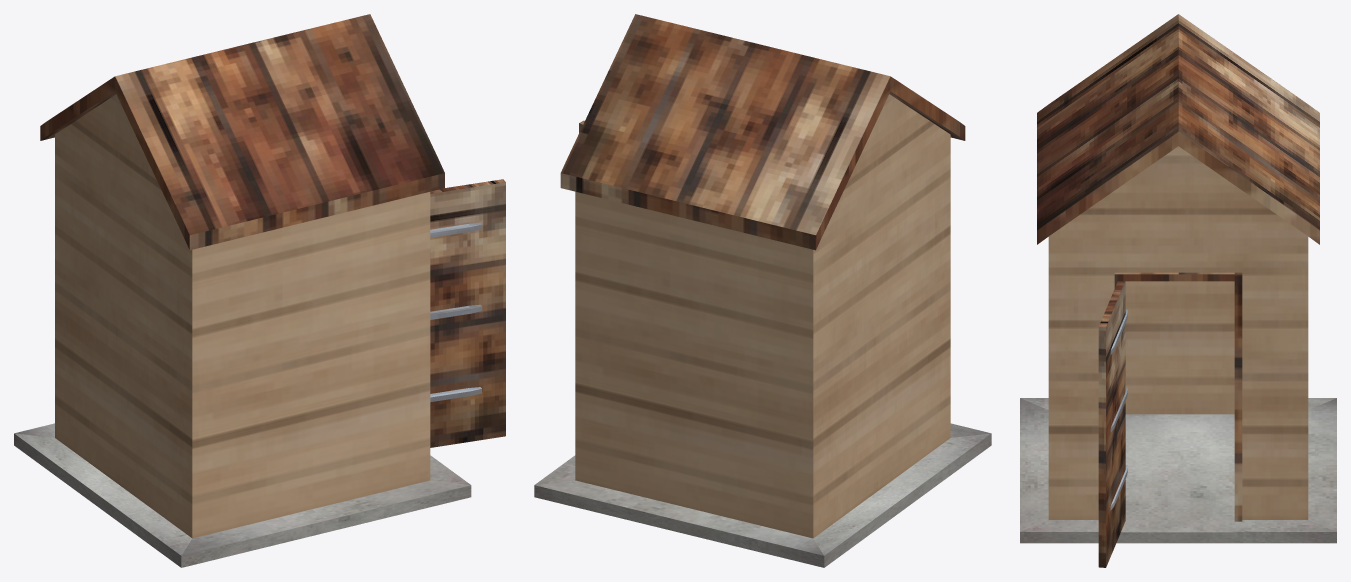
Rendered from shed.fbx.
The picture shows the model from 3 angles, left to right: view 1: azimuth 30°, elevation 25°; view 2: azimuth 150°, elevation 25°; view 3: azimuth 270°, elevation 25°; orthographic projection. The views are drawn at different scales.
Visible parts, largest first — view 1: shed; view 2: shed; view 3: shed.
Part boxes in pixels (left/top/right/bottom): shed: left=14, top=14, right=505, bottom=567; shed: left=534, top=14, right=991, bottom=567; shed: left=1020, top=14, right=1336, bottom=567.
Size of the model in its own units: 1051 by 1165 by 829.
